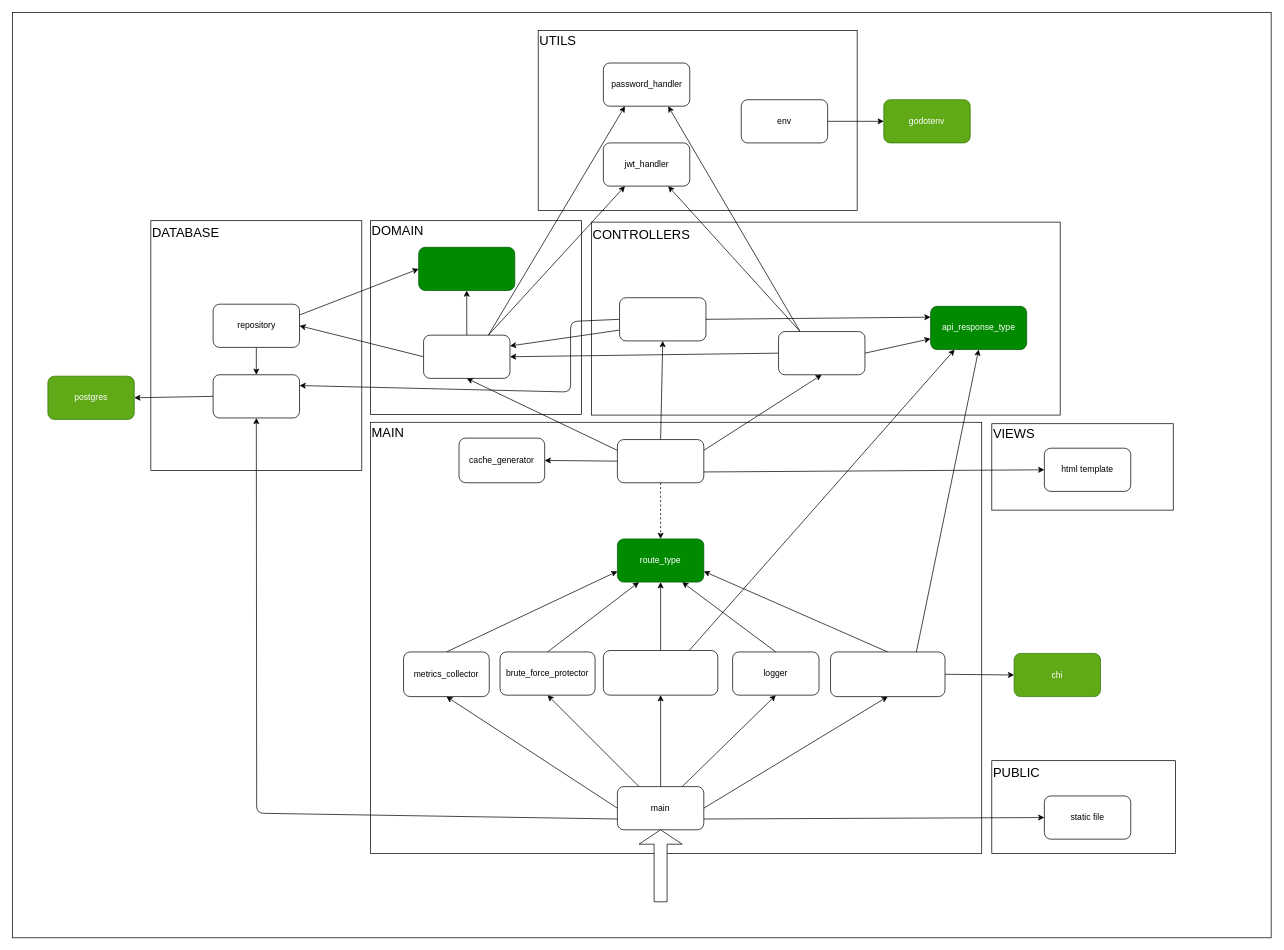
The diagram is 1284 pixels wide and 950 high, and some of its shapes have lost their labels. The box of each missing label's shape, as (x1, y1, x2, y2) in pixels:
api_router: (830, 651, 945, 697)
auth_middleware: (778, 331, 865, 375)
controller: (619, 297, 706, 341)
db_connector: (212, 374, 300, 418)
documentation_generator: (603, 650, 718, 695)
entity_type: (418, 247, 515, 291)
routes: (617, 439, 704, 483)
service: (423, 334, 510, 378)
